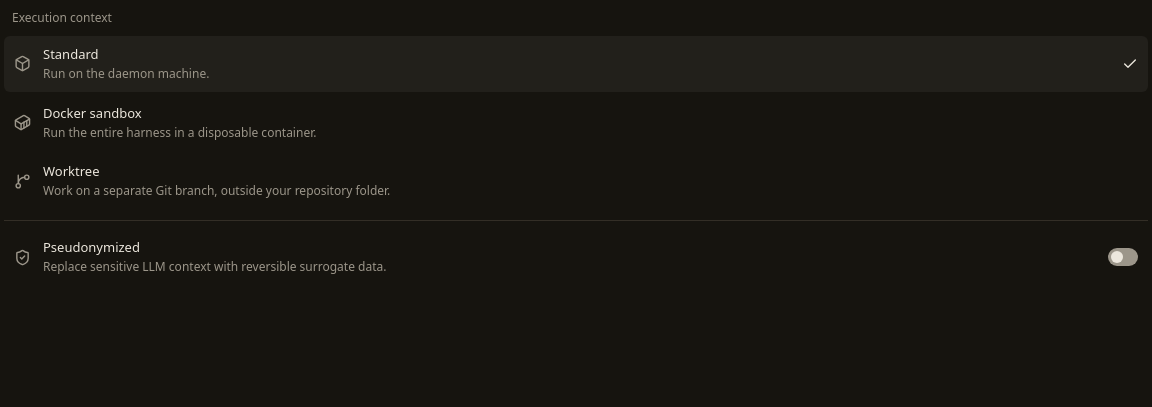
it: keeps pseudonymization independent and makes Docker and worktree mutually exclusive
Click the switch at (91, 247), box [4,229,1148,285]
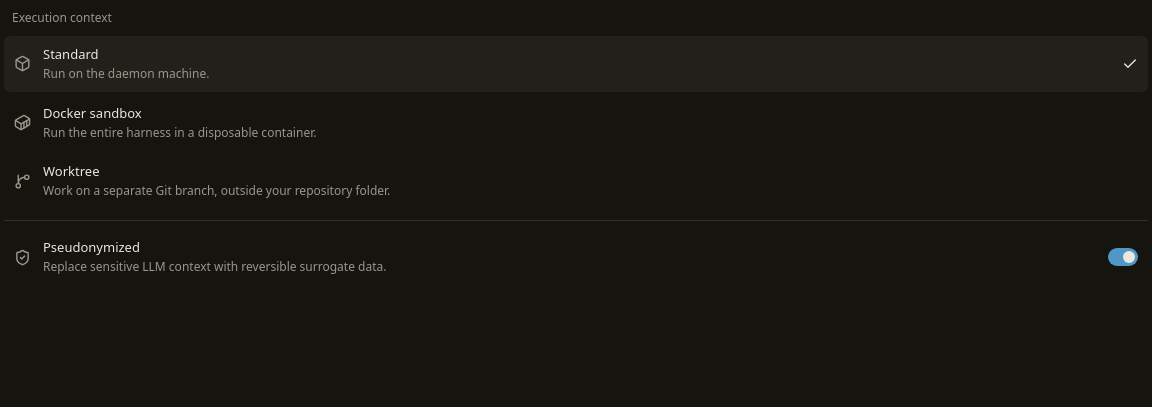
Click the button "Worktree" at (71, 171), box [4,153,1148,209]
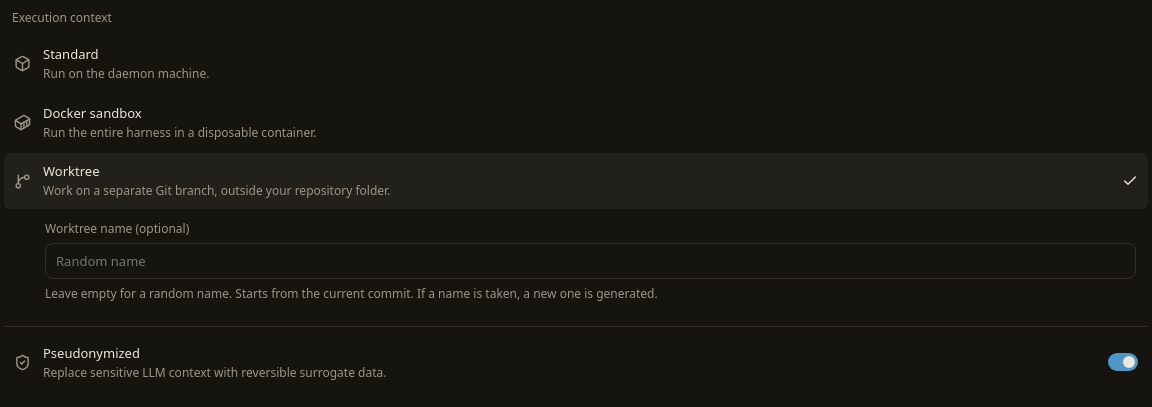
Expected: the field is empty
Expected: the field with placeholder "Random name" is shown
Type "feature/search" into the field at (590, 261), box [45,243,1136,279]
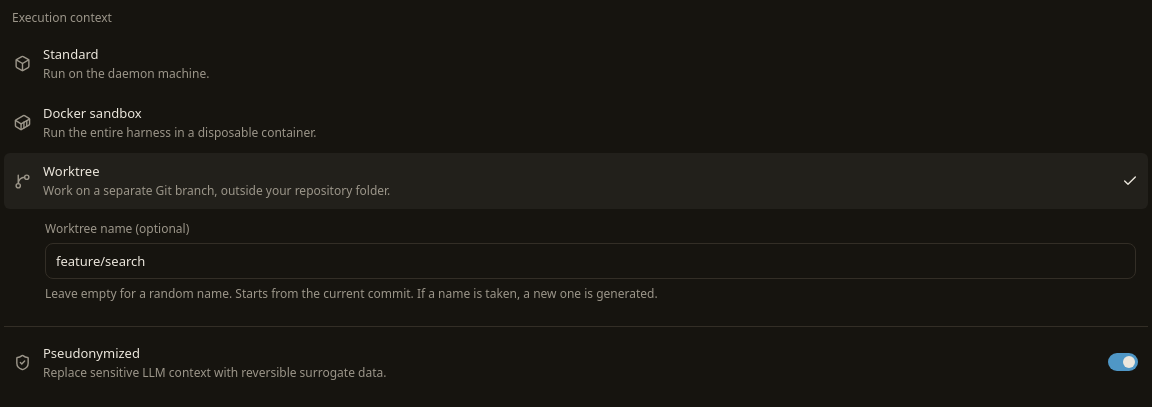
Click the button "Docker sandbox" at (92, 113), box [4,95,1148,150]
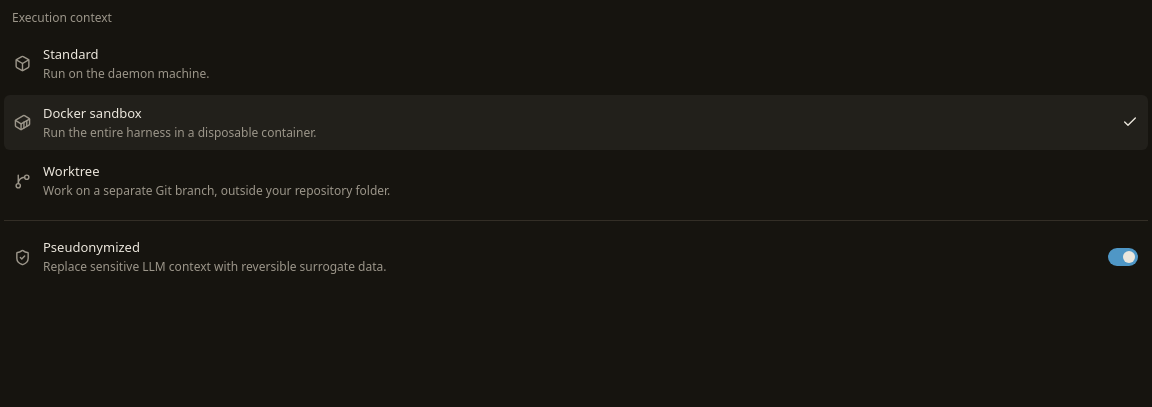
Expected: the field is gone
Click the button "Worktree" at (71, 171), box [4,153,1148,209]
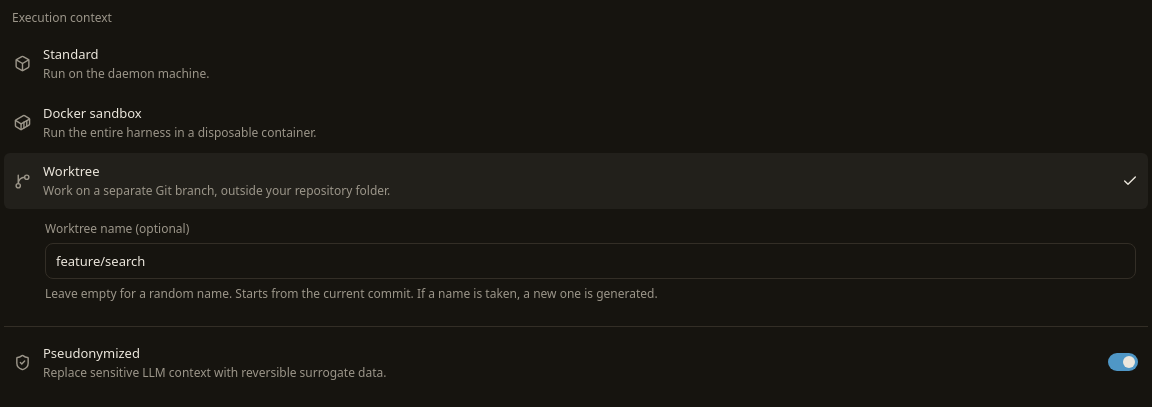
Expected: the field holds "feature/search", [45,243,1136,279]
